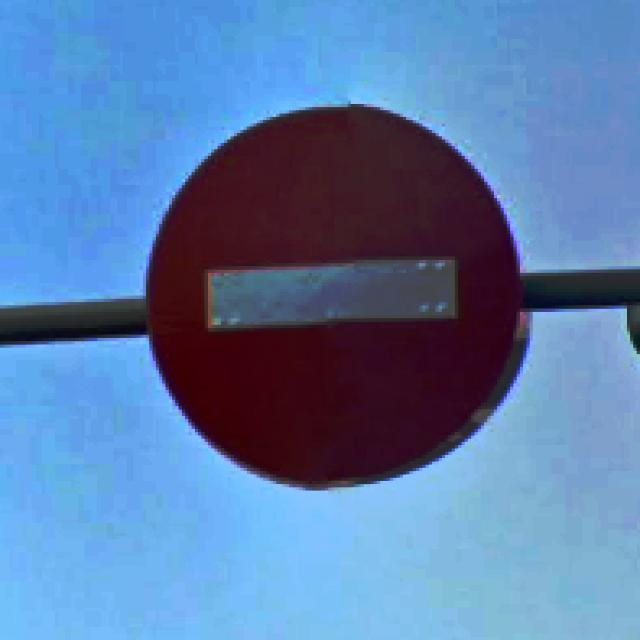noentry: (140, 99, 530, 492)
